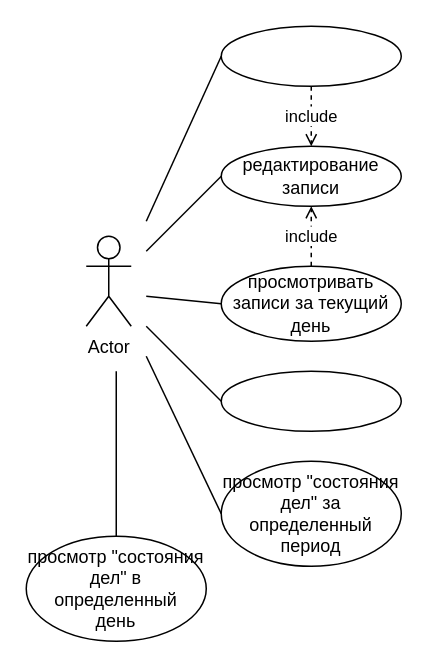
Some shapes in this 428 by 668 pixel diagram are drawn without their labels. Here are the shapes that lost their labels. From the top down, the box of each, then its label:
(220, 25, 401, 86): добавить запись
(220, 370, 401, 431): удалить запись
